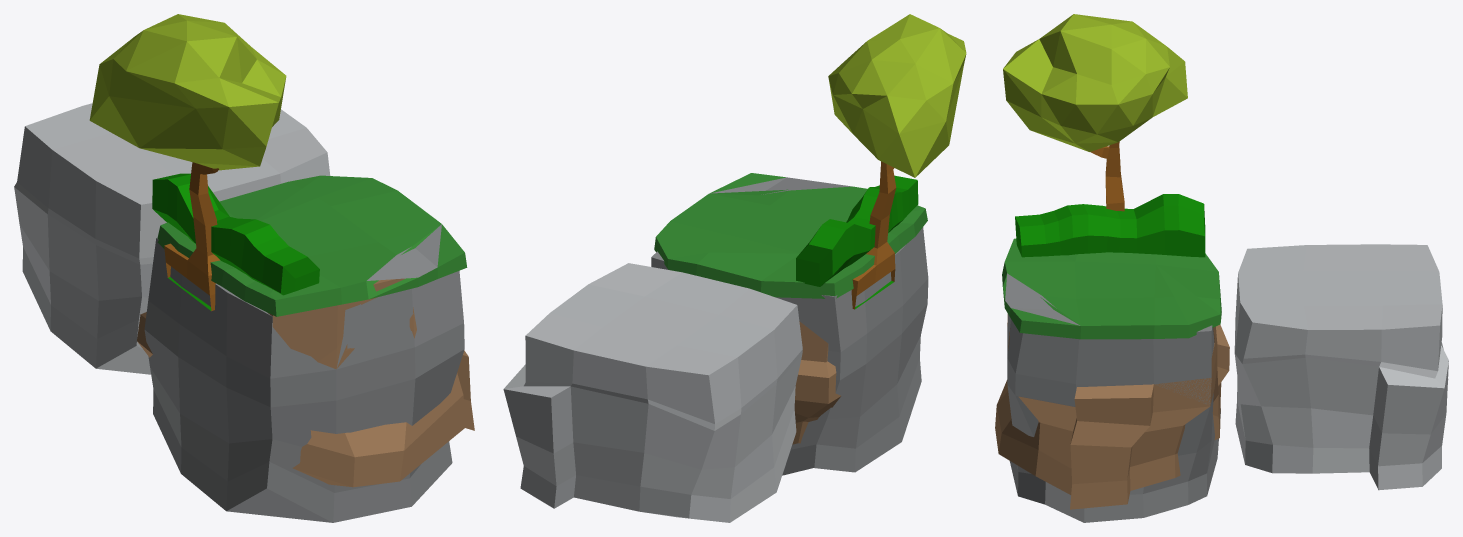
File: platform.fbx
3 renders of one model, left to right at view 1: azimuth 30°, elevation 25°; view 2: azimuth 150°, elevation 25°; view 3: azimuth 270°, elevation 25°, orthographic. The views are drawn at different scales.
Visible parts, largest first — view 1: Cube.001, Cube.002, leaves2.001, grass, Cube dirt, bush2, tree3; view 2: Cube.002, Cube.001, grass, leaves2.001, bush2, Cube dirt, tree3; view 3: Cube.002, Cube dirt, Cube.001, leaves2.001, grass, bush2, tree3.
Boxes of the visible parts, x1,y1,x2,y2 form: Cube.001: [144, 237, 464, 522]; Cube.002: [14, 103, 330, 374]; leaves2.001: [89, 14, 286, 170]; grass: [157, 175, 467, 316]; Cube dirt: [137, 278, 474, 487]; bush2: [152, 173, 319, 295]; tree3: [164, 162, 219, 311]; Cube.002: [503, 263, 802, 522]; Cube.001: [651, 227, 928, 475]; grass: [654, 173, 927, 298]; leaves2.001: [828, 14, 966, 177]; bush2: [796, 175, 918, 286]; Cube dirt: [792, 321, 840, 444]; tree3: [851, 161, 896, 309]; Cube.002: [1234, 244, 1448, 490]; Cube dirt: [995, 314, 1229, 509]; Cube.001: [1007, 314, 1220, 522]; leaves2.001: [1003, 14, 1187, 151]; grass: [1002, 238, 1221, 339]; bush2: [1015, 194, 1205, 257]; tree3: [1090, 141, 1124, 211].
Bounding box in the file's own units: 299 × 429 × 431.
